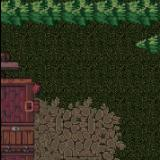Obstacle: (0, 30, 66, 160), (0, 0, 160, 31)
